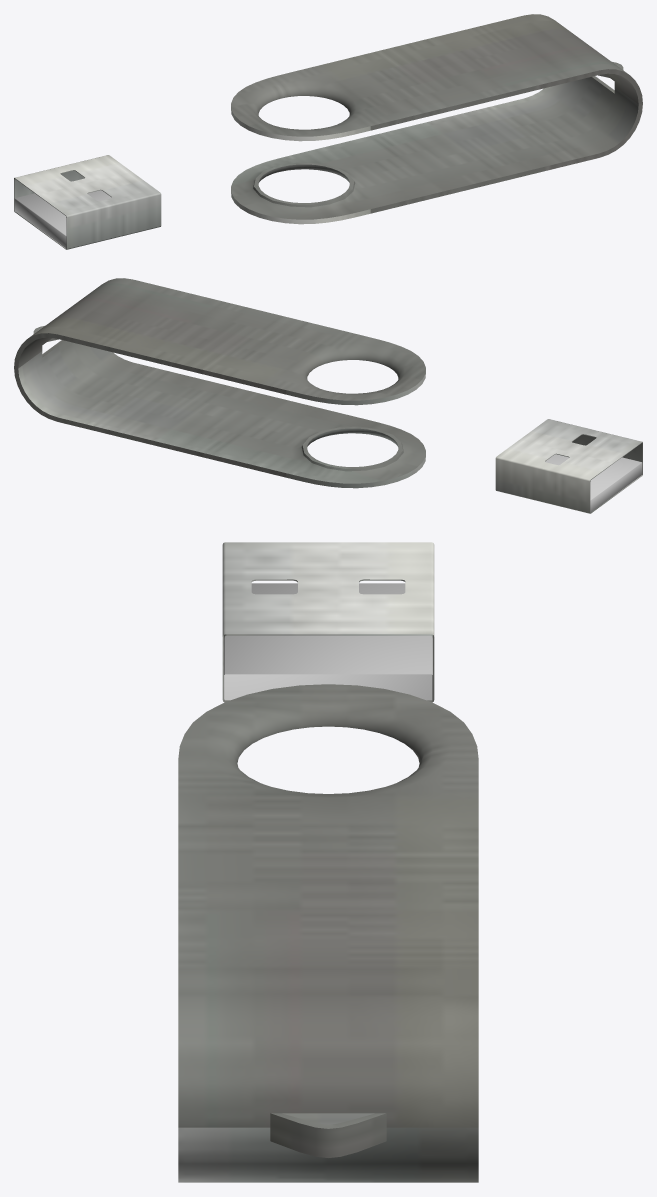
The model's file is usb_protector.obj.
3 renders of one model, top to bottom at view 1: azimuth 30°, elevation 25°; view 2: azimuth 150°, elevation 25°; view 3: azimuth 270°, elevation 25°, orthographic. The views are drawn at different scales.
Visible parts, largest first — view 1: protector_Circle.001, lamina_entrada_Circle.002, conector_entrada_Circle.003; view 2: protector_Circle.001, lamina_entrada_Circle.002, conector_entrada_Circle.003; view 3: protector_Circle.001, lamina_entrada_Circle.002, conector_entrada_Circle.003.
Boxes of the visible parts, left/top/right/bottom form: protector_Circle.001: left=231, top=14, right=642, bottom=224; lamina_entrada_Circle.002: left=14, top=155, right=161, bottom=249; conector_entrada_Circle.003: left=14, top=190, right=111, bottom=248; protector_Circle.001: left=14, top=278, right=425, bottom=488; lamina_entrada_Circle.002: left=495, top=419, right=642, bottom=513; conector_entrada_Circle.003: left=545, top=454, right=642, bottom=512; protector_Circle.001: left=178, top=684, right=478, bottom=1182; lamina_entrada_Circle.002: left=222, top=542, right=434, bottom=702; conector_entrada_Circle.003: left=224, top=583, right=432, bottom=700.
Bounding box in the file's own units: 7.44 × 1.07 × 1.66.
3 materials, 2 textured.
